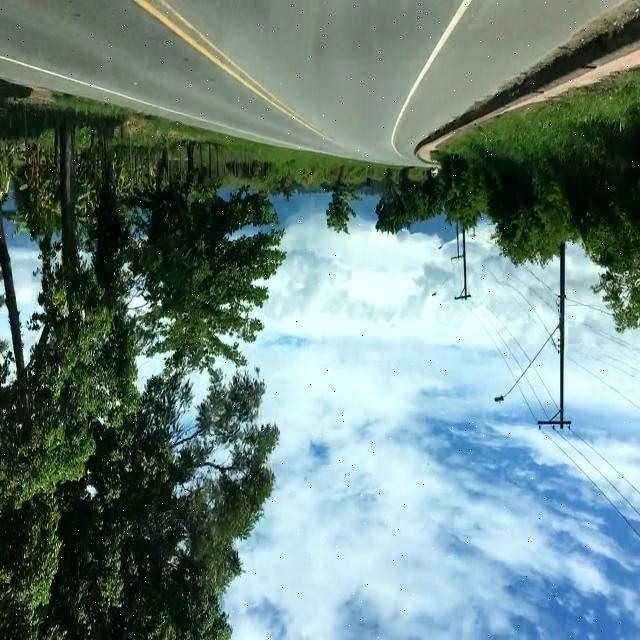lane: (133, 0, 338, 152), (136, 1, 330, 139), (391, 0, 471, 152)
